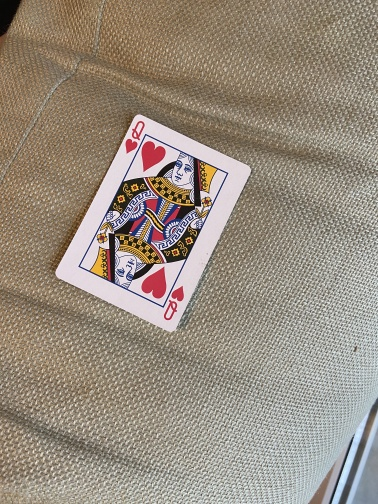queen: (53, 110, 253, 336)
